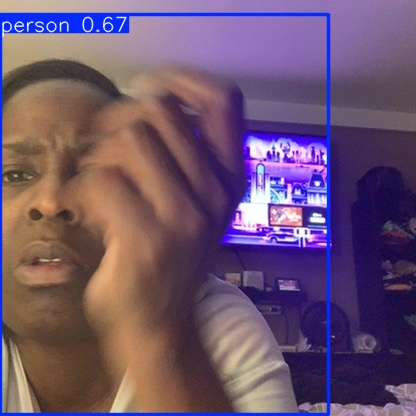tv: (217, 131, 332, 248)
